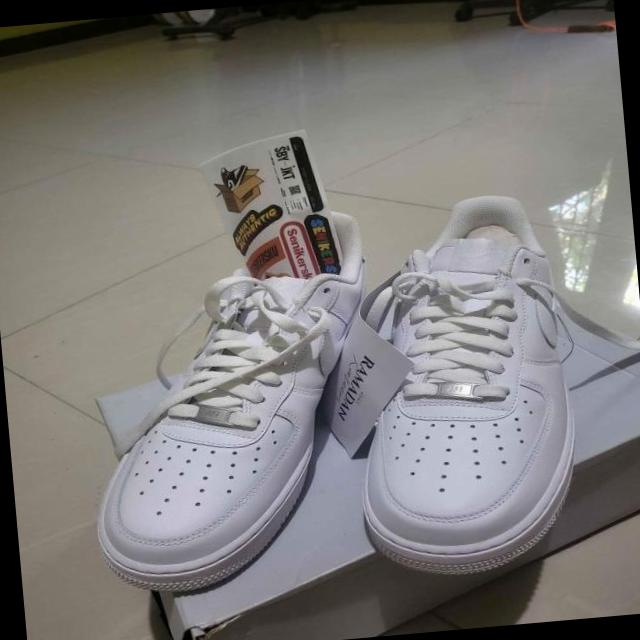nike_original_airforce: (67, 210, 396, 600), (328, 182, 596, 584)
